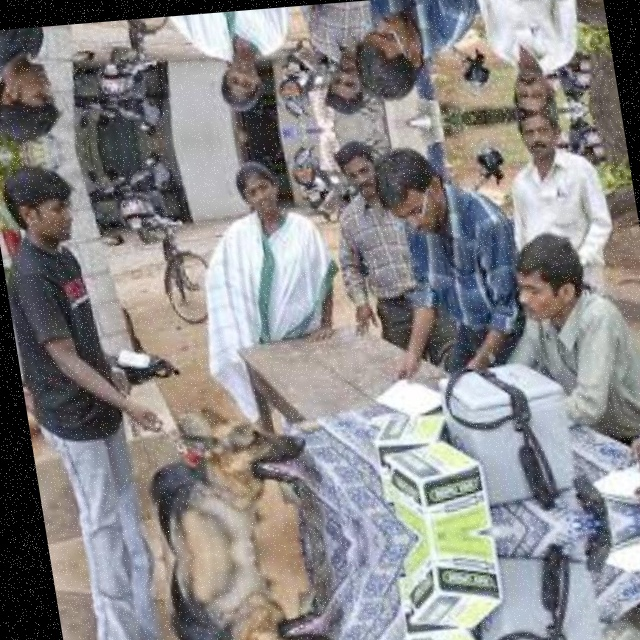dog: (150, 407, 330, 558), (172, 545, 350, 640)
person: (0, 148, 167, 567), (377, 138, 536, 385), (199, 150, 349, 367), (512, 236, 640, 453), (500, 106, 632, 257), (176, 6, 310, 119), (480, 0, 609, 115), (353, 0, 491, 103), (0, 24, 101, 155), (60, 558, 187, 640), (569, 590, 640, 640)
